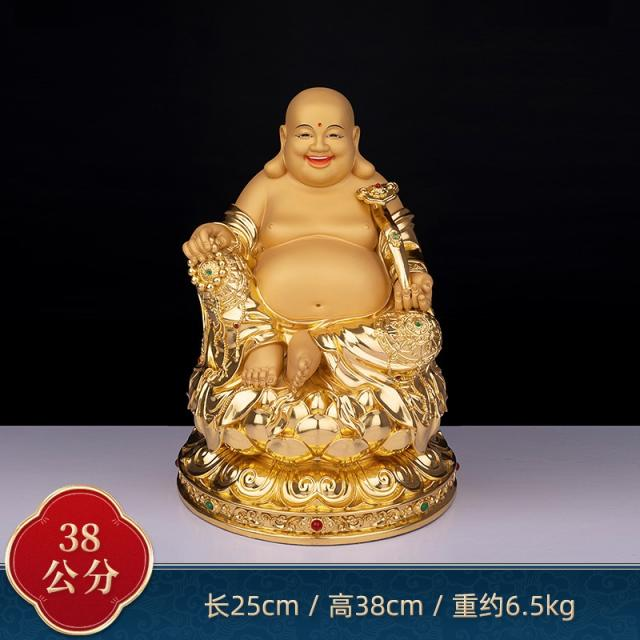Smiling Buddha: (187, 85, 443, 418)
